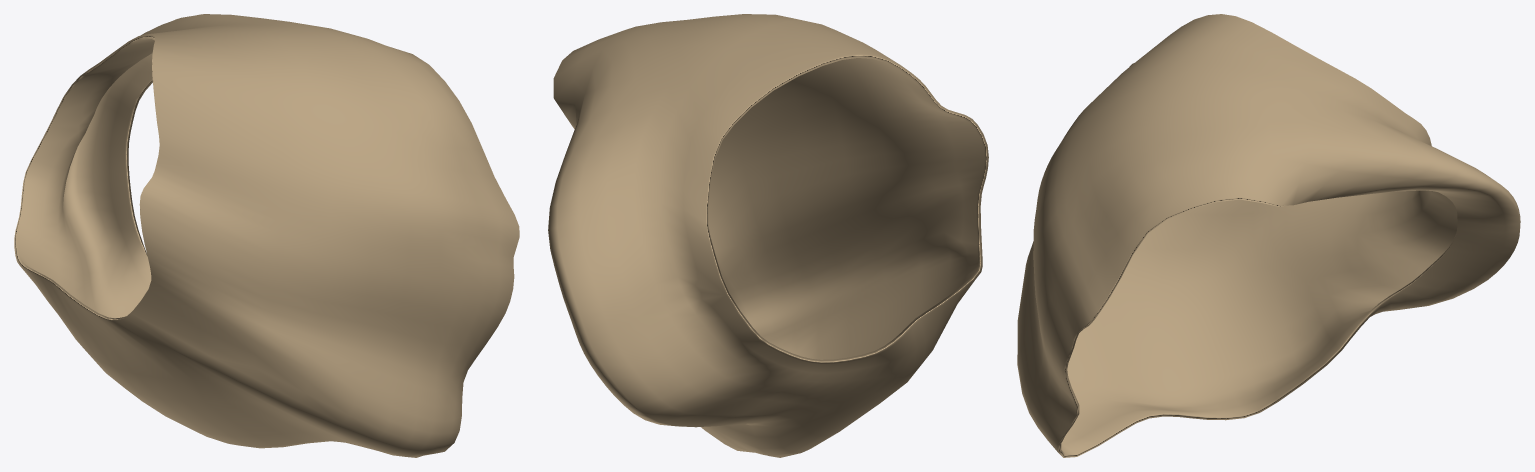
3 views of the same model, side by side, from view 1: azimuth 30°, elevation 25°; view 2: azimuth 150°, elevation 25°; view 3: azimuth 270°, elevation 25° (orthographic). The views are drawn at different scales.
Parts seen in each view (by area): view 1: 左侧肩关节囊; view 2: 左侧肩关节囊; view 3: 左侧肩关节囊.
Boxes of the visible parts, x1,y1,x2,y2 form: 左侧肩关节囊: (14, 14, 519, 457); 左侧肩关节囊: (548, 14, 988, 457); 左侧肩关节囊: (1017, 14, 1520, 457).
Size of the model in its own units: 0.0696 by 0.0687 by 0.086.
